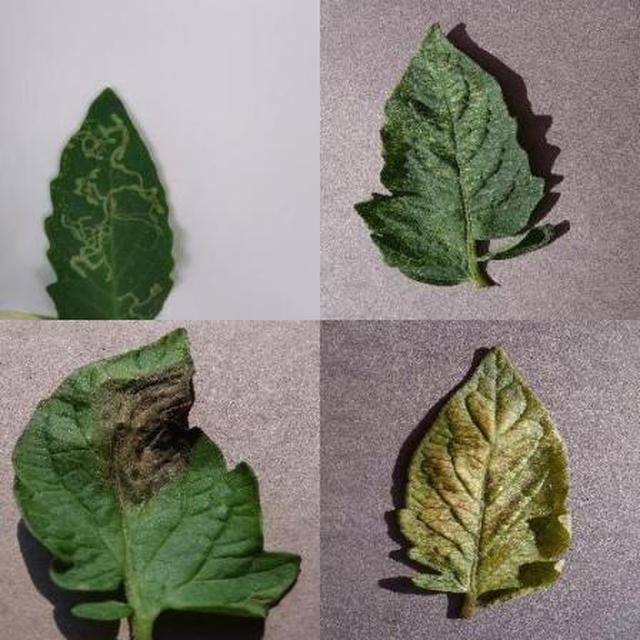Leaf Miner: (157, 221, 640, 640)
